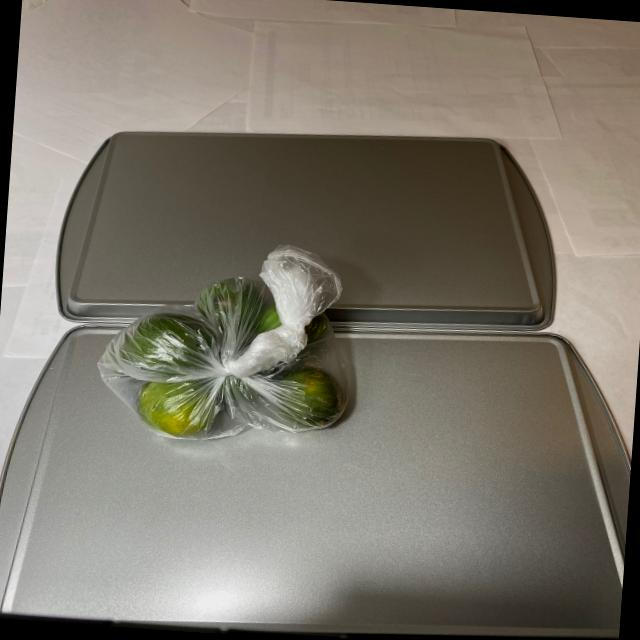lemon: (106, 275, 354, 452)
